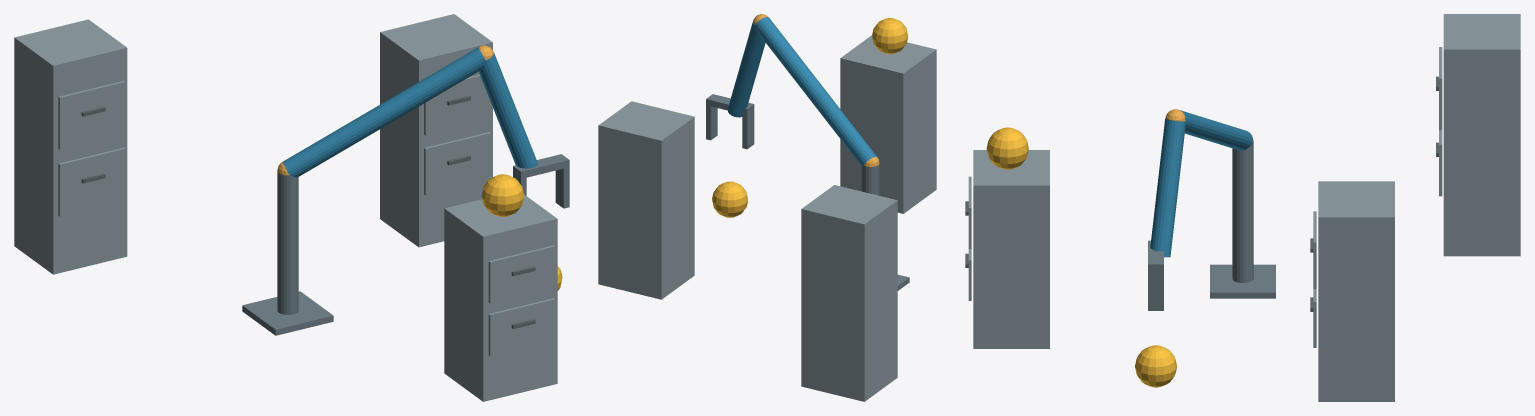
The picture shows the model from 3 angles, left to right: view 1: azimuth 30°, elevation 25°; view 2: azimuth 150°, elevation 25°; view 3: azimuth 270°, elevation 25°; orthographic projection. The views are drawn at different scales.
Parts seen in each view (by area): view 1: cabinet_3 body, cabinet_1 body, cabinet_2 body, moving link 1, cabinet_3 drawer front, cabinet_3 drawer front.001, cabinet_2 drawer front, fixed post, cabinet_1 drawer front.001, cabinet_1 drawer front, cabinet_2 drawer front.001, moving link 2 (+4 smaller); view 2: cabinet_3 body, cabinet_2 body, cabinet_1 body, moving link 1, moving link 2, ball ball_2, released ball_1, fixed post, gripper finger -1, gripper bridge, gripper finger 1; view 3: cabinet_3 body, cabinet_2 body, cabinet_1 body, fixed post, moving link 2, pedestal, moving link 1, ball ball_2, released ball_1, gripper finger 1.
Boxes of the visible parts, x1,y1,x2,y2 form: cabinet_3 body: [14, 19, 127, 274]; cabinet_1 body: [444, 195, 557, 401]; cabinet_2 body: [380, 14, 492, 247]; moving link 1: [282, 47, 485, 177]; cabinet_3 drawer front: [58, 147, 125, 216]; cabinet_3 drawer front.001: [58, 81, 125, 149]; cabinet_2 drawer front: [424, 132, 490, 195]; fixed post: [277, 170, 298, 314]; cabinet_1 drawer front.001: [488, 245, 555, 303]; cabinet_1 drawer front: [488, 298, 555, 356]; cabinet_2 drawer front.001: [424, 74, 490, 135]; moving link 2: [478, 53, 537, 168]; cabinet_3 body: [801, 185, 897, 401]; cabinet_2 body: [598, 101, 694, 299]; cabinet_1 body: [840, 35, 936, 213]; moving link 1: [755, 17, 877, 165]; moving link 2: [727, 21, 765, 117]; ball ball_2: [712, 181, 747, 217]; released ball_1: [872, 18, 907, 54]; fixed post: [861, 164, 879, 195]; gripper finger -1: [742, 110, 754, 149]; gripper bridge: [706, 94, 754, 115]; gripper finger 1: [706, 105, 717, 140]; cabinet_3 body: [1443, 14, 1520, 256]; cabinet_2 body: [1318, 181, 1394, 401]; cabinet_1 body: [973, 150, 1049, 348]; fixed post: [1232, 141, 1253, 282]; moving link 2: [1150, 118, 1185, 257]; pedestal: [1210, 264, 1275, 298]; moving link 1: [1180, 110, 1252, 150]; ball ball_2: [1135, 345, 1177, 387]; released ball_1: [986, 127, 1028, 169]; gripper finger 1: [1148, 271, 1163, 310].
Size of the model in its own units: 1.62 by 1.05 by 2.1.
